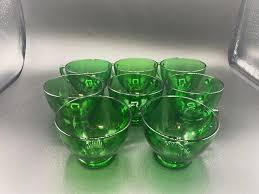glass: (136, 94, 221, 170), (54, 94, 133, 170), (42, 75, 107, 128), (106, 73, 165, 128), (163, 72, 229, 121), (57, 59, 112, 95), (107, 57, 161, 92), (158, 55, 209, 92)
